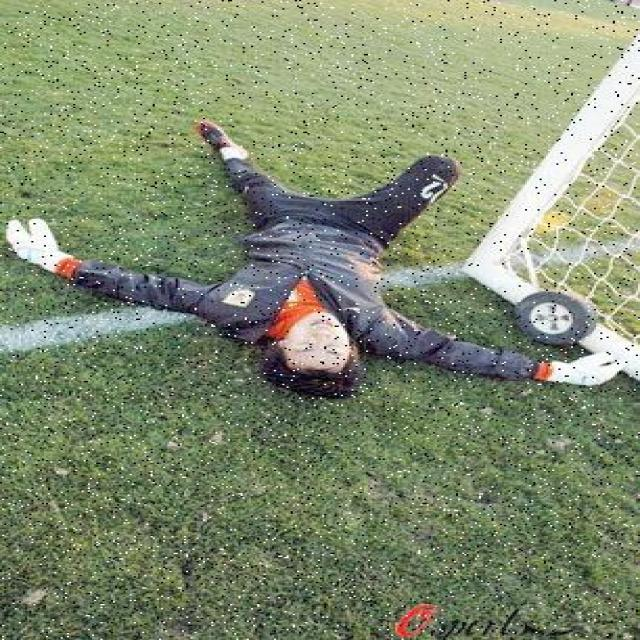fall: (52, 111, 529, 402)
